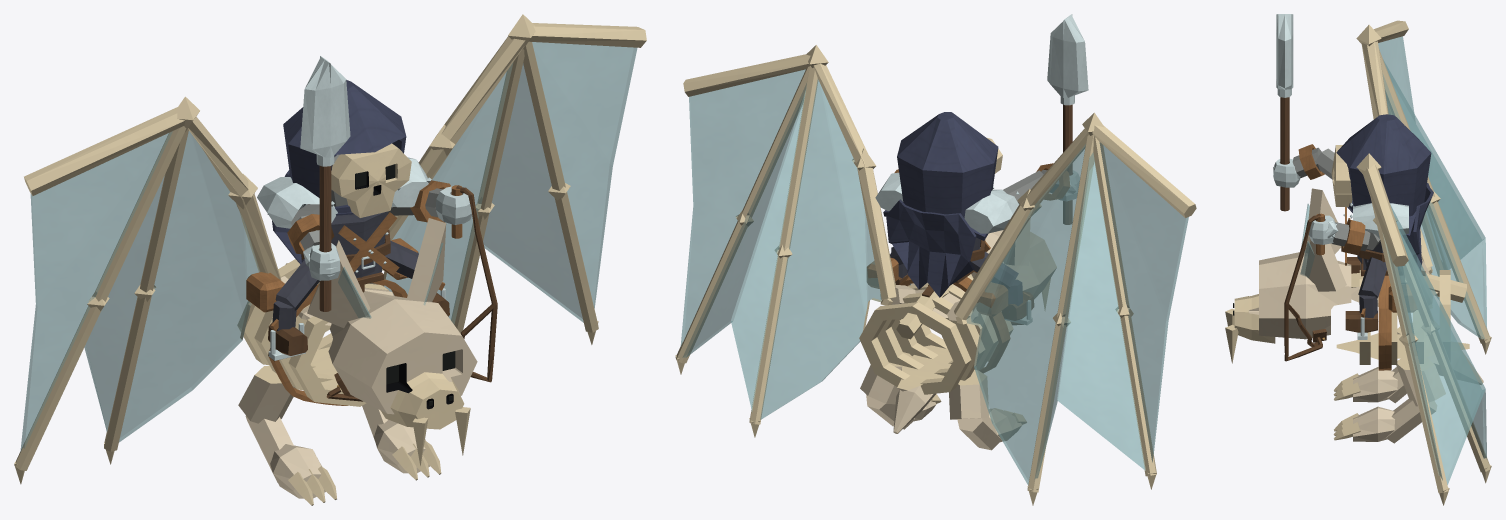
The model's file is host_27.glb.
3 views of the same model, side by side, from view 1: azimuth 30°, elevation 25°; view 2: azimuth 150°, elevation 25°; view 3: azimuth 270°, elevation 25° (orthographic). The views are drawn at different scales.
Visible parts, largest first — view 1: Bat source connected muzzle, skull, native limbs and membran, Rider one connected body, skull, ears, two arms, compact pal, Rider true deep peaked open source cowl, Rider source actual ivory skull face and short jaw, Rider RIGHT source weapon real volumetric blade, Rider actual convex three-plane source pauldron 1, Rider RIGHT source weapon actual wood handle, Rider real shaped source torso clothing shell, Rider compact source saddle pouch 1, Rider connected bridle rein 1, Fitted torso girth below wing roots, Rider actual convex three-plane source pauldron -1 (+3 smaller); view 2: Bat source connected muzzle, skull, native limbs and membran, Rider true deep peaked open source cowl, Actual source joined descending hood rear mantle, Rider RIGHT source weapon real volumetric blade, Rider one connected body, skull, ears, two arms, compact pal, Rider actual convex three-plane source pauldron 1, Fitted torso girth below wing roots, Rider compact source saddle pouch 1, Rider RIGHT source weapon actual wood handle, Rider actual convex three-plane source pauldron -1; view 3: Bat source connected muzzle, skull, native limbs and membran, Rider true deep peaked open source cowl, Rider one connected body, skull, ears, two arms, compact pal, Rider RIGHT source weapon real volumetric blade, Fitted torso girth below wing roots, Rider actual convex three-plane source pauldron -1, Rider RIGHT source weapon actual wood handle, Rider source actual ivory skull face and short jaw, Actual source joined descending hood rear mantle, Rider connected bridle rein 1, Rider connected bridle rein -1, Rider LEFT actual open sleeve cuff (+3 smaller).
Part boxes in pixels (box(x1,y1,x2,y2)): Bat source connected muzzle, skull, native limbs and membran: box(14, 14, 646, 505); Rider one connected body, skull, ears, two arms, compact pal: box(268, 154, 471, 355); Rider true deep peaked open source cowl: box(283, 80, 406, 215); Rider source actual ivory skull face and short jaw: box(331, 143, 411, 217); Rider RIGHT source weapon real volumetric blade: box(300, 56, 350, 157); Rider actual convex three-plane source pauldron 1: box(257, 177, 337, 228); Rider RIGHT source weapon actual wood handle: box(319, 166, 331, 311); Rider real shaped source torso clothing shell: box(331, 211, 388, 277); Rider compact source saddle pouch 1: box(246, 272, 284, 312); Rider connected bridle rein 1: box(326, 185, 495, 401); Fitted torso girth below wing roots: box(268, 279, 407, 405); Rider actual convex three-plane source pauldron -1: box(392, 157, 428, 207); Bat source connected muzzle, skull, native limbs and membran: box(675, 45, 1196, 505); Rider true deep peaked open source cowl: box(897, 112, 998, 218); Actual source joined descending hood rear mantle: box(886, 199, 976, 297); Rider RIGHT source weapon real volumetric blade: box(1047, 14, 1088, 97); Rider one connected body, skull, ears, two arms, compact pal: box(890, 170, 1079, 320); Rider actual convex three-plane source pauldron 1: box(964, 189, 1019, 233); Fitted torso girth below wing roots: box(899, 276, 1010, 372); Rider compact source saddle pouch 1: box(976, 282, 1007, 316); Rider RIGHT source weapon actual wood handle: box(1063, 104, 1072, 224); Rider actual convex three-plane source pauldron -1: box(875, 172, 903, 210); Bat source connected muzzle, skull, native limbs and membran: box(1234, 20, 1491, 505); Rider true deep peaked open source cowl: box(1336, 114, 1431, 216); Rider one connected body, skull, ears, two arms, compact pal: box(1273, 147, 1386, 332); Rider RIGHT source weapon real volumetric blade: box(1276, 14, 1293, 89); Fitted torso girth below wing roots: box(1378, 270, 1425, 370); Rider actual convex three-plane source pauldron -1: box(1353, 203, 1408, 238); Rider RIGHT source weapon actual wood handle: box(1280, 97, 1289, 211); Rider source actual ivory skull face and short jaw: box(1331, 145, 1351, 206); Actual source joined descending hood rear mantle: box(1406, 183, 1433, 270); Rider connected bridle rein 1: box(1288, 213, 1321, 347); Rider connected bridle rein -1: box(1284, 276, 1322, 361); Rider LEFT actual open sleeve cuff: box(1341, 219, 1365, 255).
Size of the model in its own units: 5.17 by 3.83 by 2.47.
28 materials, 26 textured.
